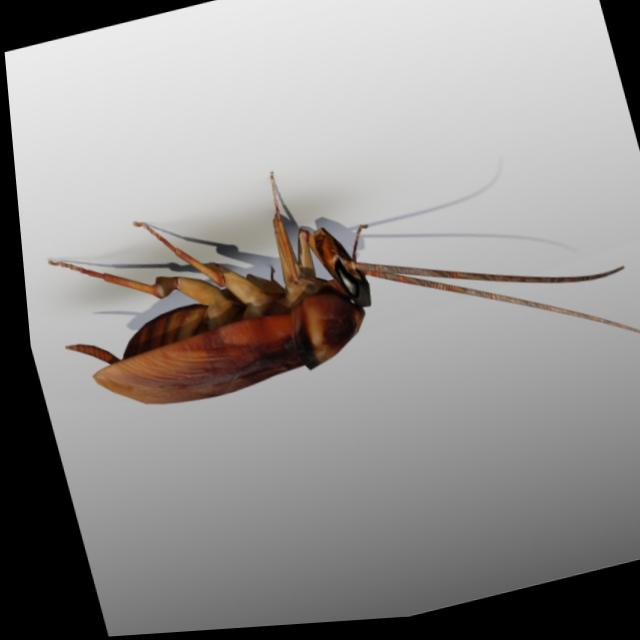Cockroach: (8, 86, 640, 505)
